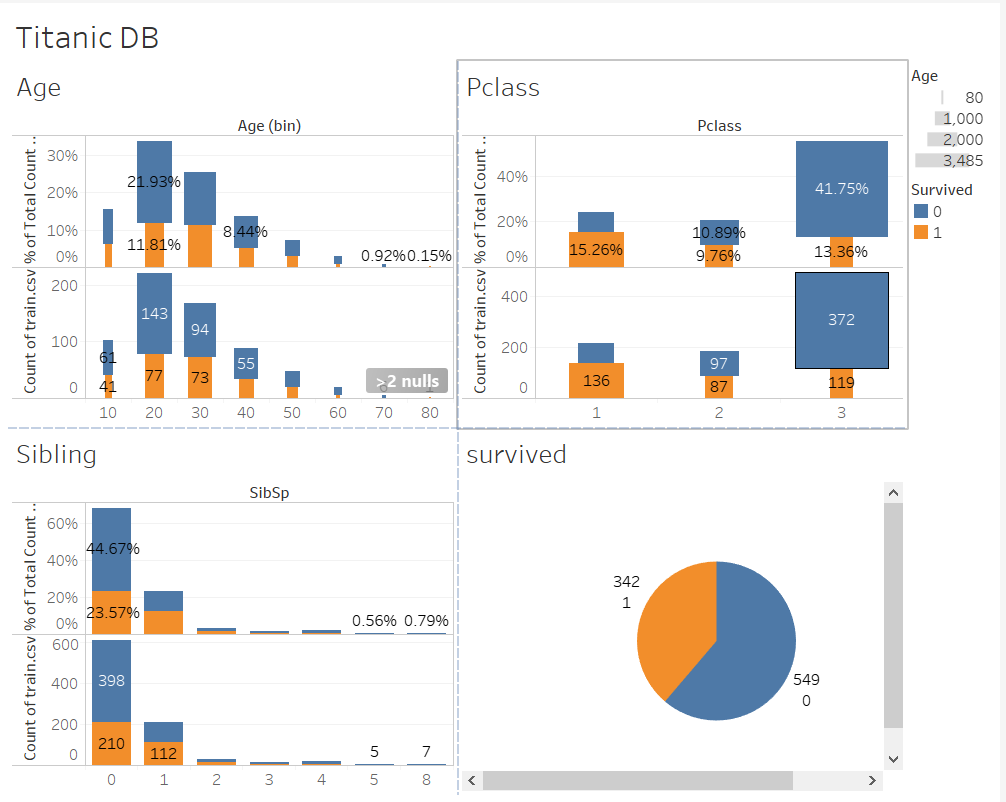

Layout of this report page (visuals, bound fields, positions):
{"tool":"tableau","page":{"name":"Titanic DB","canvas":[1000,800],"ordinal":0},"visuals":[{"type":"worksheet","box":[0,0,1000,800]},{"type":"worksheet","param":"horz","box":[8,8,984,784]},{"type":"worksheet","box":[8,8,899,784]},{"type":"worksheet","title":"Age","mark":"Automatic","rows":["train.csv_C7541463AFAF45D4B93542430EFD82FD","train.csv_C7541463AFAF45D4B93542430EFD82FD"],"cols":["Age (bin)"],"box":[8,8,449.5,392]},{"type":"worksheet","title":"Pclass","mark":"Automatic","rows":["train.csv_C7541463AFAF45D4B93542430EFD82FD","train.csv_C7541463AFAF45D4B93542430EFD82FD"],"cols":["Pclass"],"box":[457.5,8,449.5,392]},{"type":"worksheet","param":"vert","box":[907,8,85,784]},{"type":"worksheet","title":"Age","mark":"Automatic","rows":["train.csv_C7541463AFAF45D4B93542430EFD82FD","train.csv_C7541463AFAF45D4B93542430EFD82FD"],"cols":["Age (bin)"],"param":"[federated.09gblf3098ahqo1ga01wy13geunr].[sum:Age:qk]","box":[907,8,85,114]},{"type":"worksheet","title":"Age","mark":"Automatic","rows":["train.csv_C7541463AFAF45D4B93542430EFD82FD","train.csv_C7541463AFAF45D4B93542430EFD82FD"],"cols":["Age (bin)"],"param":"[federated.09gblf3098ahqo1ga01wy13geunr].[none:Survived:ok]","box":[907,122,85,72]},{"type":"worksheet","title":"Sibling","mark":"Automatic","rows":["train.csv_C7541463AFAF45D4B93542430EFD82FD","train.csv_C7541463AFAF45D4B93542430EFD82FD"],"cols":["SibSp"],"box":[8,400,449.5,392]},{"type":"worksheet","title":"survived","mark":"Pie","box":[457.5,400,449.5,392]}]}

Visuals, with their boxes in screenshot pixels (x1, y1, x2, y2), scaled from the page's 1000x800 canvas onto the 1006x802 screenshot:
worksheet: <bbox>0, 0, 1005, 801</bbox>
worksheet: <bbox>8, 8, 998, 794</bbox>
worksheet: <bbox>8, 8, 912, 794</bbox>
"Age" worksheet: <bbox>8, 8, 460, 401</bbox>
"Pclass" worksheet: <bbox>460, 8, 912, 401</bbox>
worksheet: <bbox>912, 8, 998, 794</bbox>
"Age" worksheet: <bbox>912, 8, 998, 122</bbox>
"Age" worksheet: <bbox>912, 122, 998, 194</bbox>
"Sibling" worksheet: <bbox>8, 401, 460, 794</bbox>
"survived" worksheet (Pie marks): <bbox>460, 401, 912, 794</bbox>
